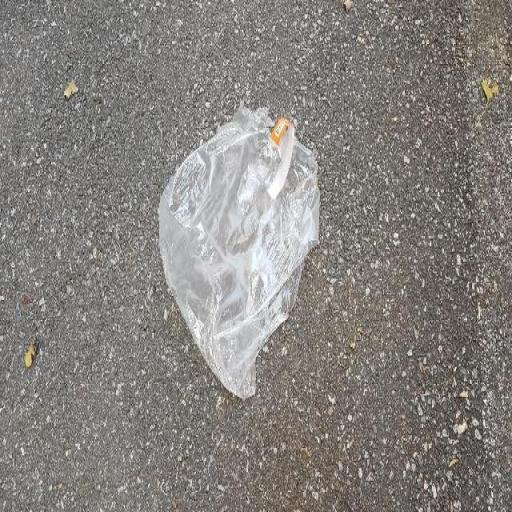plastic-bag: (156, 94, 323, 402)
